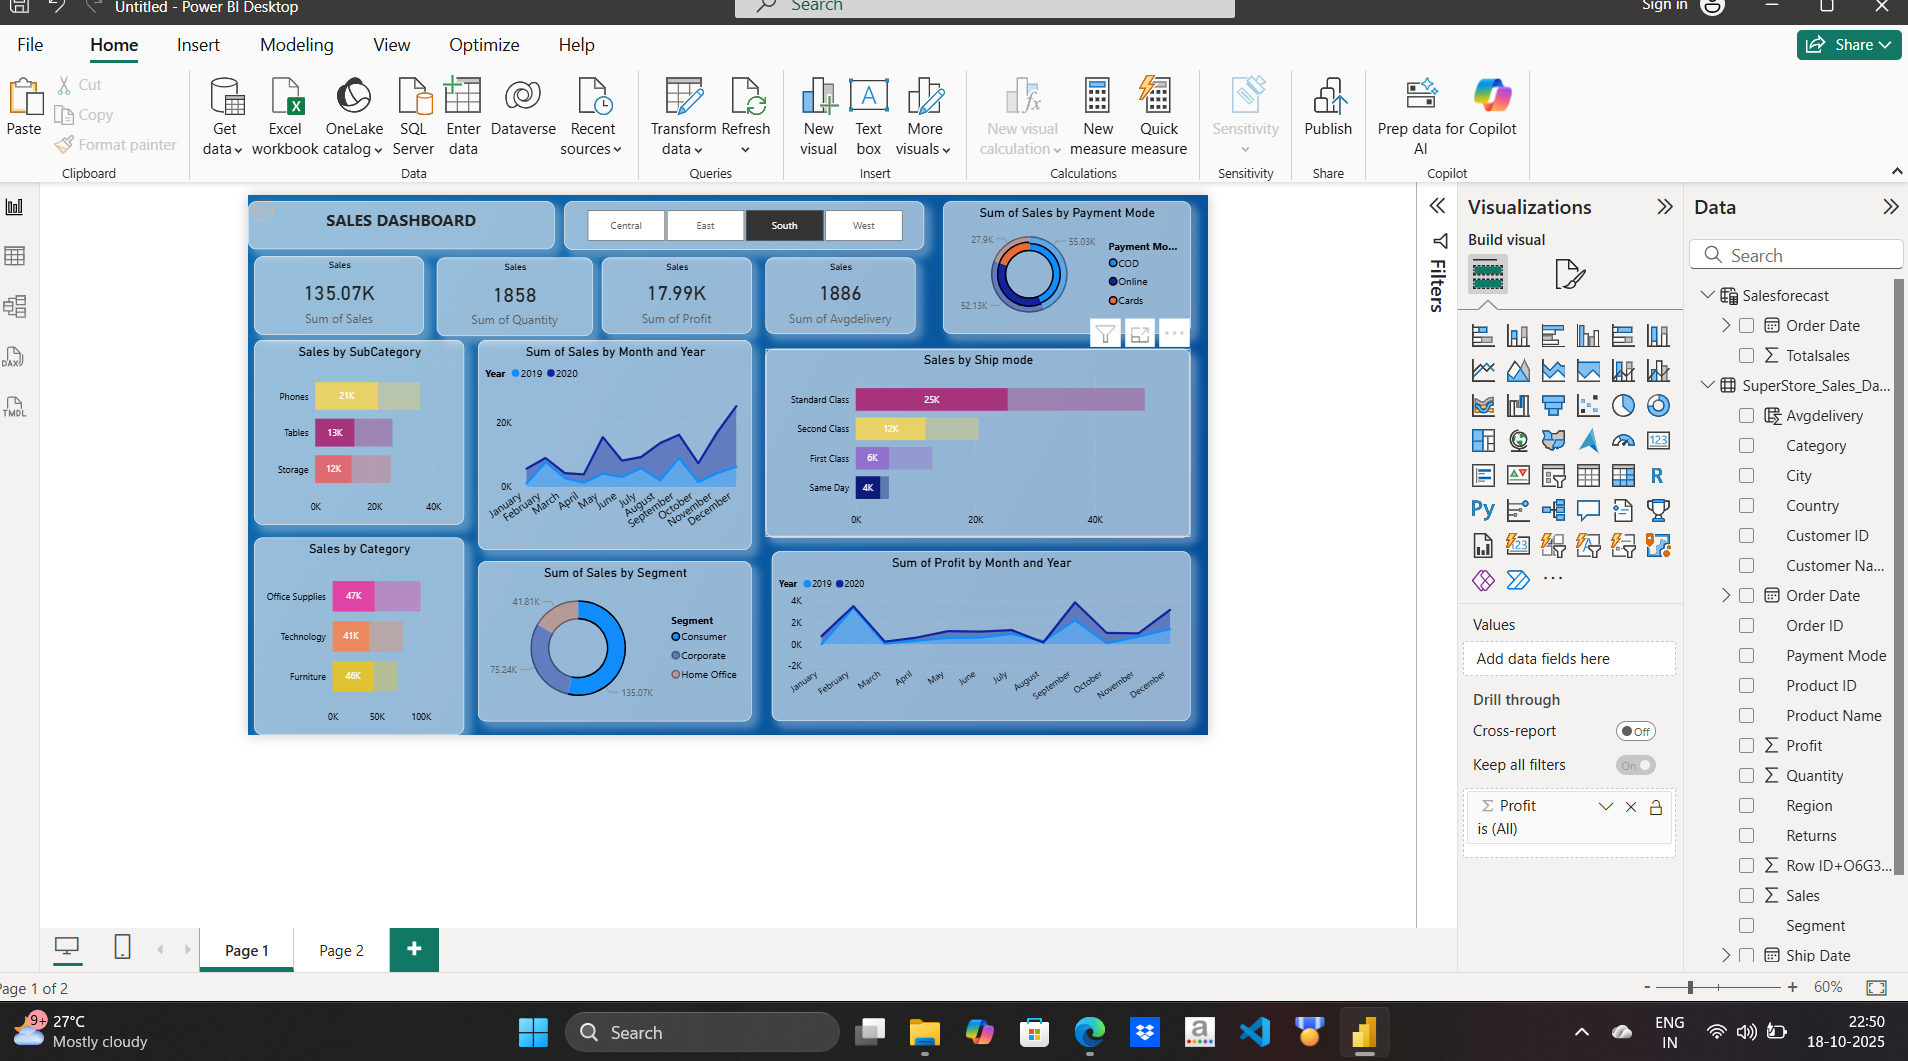

The page's visual inventory and layout, read from the dashboard file:
{"tool":"powerbi","page":{"name":"Page 1","canvas":[1280,720],"ordinal":0},"visuals":[{"type":"clusteredBarChart","title":" Sales by Category","fields":{"Category":["SuperStore_Sales_Dataset (1).Category"],"Y":["Sum(SuperStore_Sales_Dataset (1).Sales)"]},"box":[8.3,456.7,280,263.3],"z":0},{"type":"clusteredBarChart","title":" Sales by SubCategory","fields":{"Category":["SuperStore_Sales_Dataset (1).Sub-Category"],"Y":["Sum(SuperStore_Sales_Dataset (1).Sales)"]},"box":[8.3,193.3,280,246.7],"z":1000},{"type":"clusteredBarChart","title":" Sales by Ship mode","fields":{"Category":["SuperStore_Sales_Dataset (1).Ship Mode"],"Y":["Sum(SuperStore_Sales_Dataset (1).Sales)"]},"box":[690,194,318,262],"z":2000},{"type":"stackedAreaChart","fields":{"Y":["Sum(SuperStore_Sales_Dataset (1).Sales)"],"Category":["SuperStore_Sales_Dataset (1).Order Date.Variation.Date Hierarchy.Month","SuperStore_Sales_Dataset (1).Order Date.Variation.Date Hierarchy.Day"],"Series":["SuperStore_Sales_Dataset (1).Order Date.Variation.Date Hierarchy.Year"]},"box":[306.7,193.3,365,280],"z":3000},{"type":"stackedAreaChart","fields":{"Category":["SuperStore_Sales_Dataset (1).Order Date.Variation.Date Hierarchy.Month","SuperStore_Sales_Dataset (1).Order Date.Variation.Date Hierarchy.Day"],"Series":["SuperStore_Sales_Dataset (1).Order Date.Variation.Date Hierarchy.Year"],"Y":["Sum(SuperStore_Sales_Dataset (1).Profit)"]},"box":[698,476,582,226],"z":4000},{"type":"actionButton","box":[0,0,100,40],"z":5000},{"type":"donutChart","fields":{"Category":["SuperStore_Sales_Dataset (1).Segment"],"Y":["Sum(SuperStore_Sales_Dataset (1).Sales)"]},"box":[306,488,366,214],"z":6000},{"type":"donutChart","fields":{"Category":["SuperStore_Sales_Dataset (1).Payment Mode","SuperStore_Sales_Dataset (1).Segment"],"Y":["Sum(SuperStore_Sales_Dataset (1).Sales)"]},"box":[916,8,364,178],"z":7000},{"type":"slicer","fields":{"Values":["SuperStore_Sales_Dataset (1).Region"]},"box":[421.7,8.3,480,65],"z":8000},{"type":"textbox","box":[0,7.5,408.8,63.8],"z":9000},{"type":"card","title":"Sales","fields":{"Values":["Sum(SuperStore_Sales_Dataset (1).Sales)"]},"box":[8.3,81.7,226.7,105],"z":10000},{"type":"card","title":"Sales","fields":{"Values":["Sum(SuperStore_Sales_Dataset (1).Quantity)"]},"box":[251.7,83.3,208.3,105],"z":11000},{"type":"card","title":"Sales","fields":{"Values":["Sum(SuperStore_Sales_Dataset (1).Profit)"]},"box":[471.7,83.3,200,101.7],"z":12000},{"type":"card","title":"Sales","fields":{"Values":["Sum(SuperStore_Sales_Dataset (1).Avgdelivery)"]},"box":[690,83.3,200,101.7],"z":13000},{"type":"map","fields":{"Category":["SuperStore_Sales_Dataset (1).State"],"Size":["Sum(SuperStore_Sales_Dataset (1).Sales)"]},"box":[1022,200,258,256],"z":14000}]}

Visuals, with their boxes on the page's 1280x720 design canvas (x1, y1, x2, y2). These are canvas units, not pixel positions in the 1908x1061 screenshot, which may show the page scaled, cropped or inside an application window:
" Sales by Category" clusteredBarChart: 8,457,288,720
" Sales by SubCategory" clusteredBarChart: 8,193,288,440
" Sales by Ship mode" clusteredBarChart: 690,194,1008,456
stackedAreaChart - Sum(SuperStore_Sales_Dataset (1).Sales) x SuperStore_Sales_Dataset (1).Order Date.Variation.Date Hierarchy.Month: 307,193,672,473
stackedAreaChart - SuperStore_Sales_Dataset (1).Order Date.Variation.Date Hierarchy.Month x SuperStore_Sales_Dataset (1).Order Date.Variation.Date Hierarchy.Day: 698,476,1280,702
actionButton: 0,0,100,40
donutChart - SuperStore_Sales_Dataset (1).Segment x Sum(SuperStore_Sales_Dataset (1).Sales): 306,488,672,702
donutChart - SuperStore_Sales_Dataset (1).Payment Mode x SuperStore_Sales_Dataset (1).Segment: 916,8,1280,186
slicer - SuperStore_Sales_Dataset (1).Region: 422,8,902,73
textbox: 0,8,409,71
"Sales" card: 8,82,235,187
"Sales" card: 252,83,460,188
"Sales" card: 472,83,672,185
"Sales" card: 690,83,890,185
map - SuperStore_Sales_Dataset (1).State x Sum(SuperStore_Sales_Dataset (1).Sales): 1022,200,1280,456
